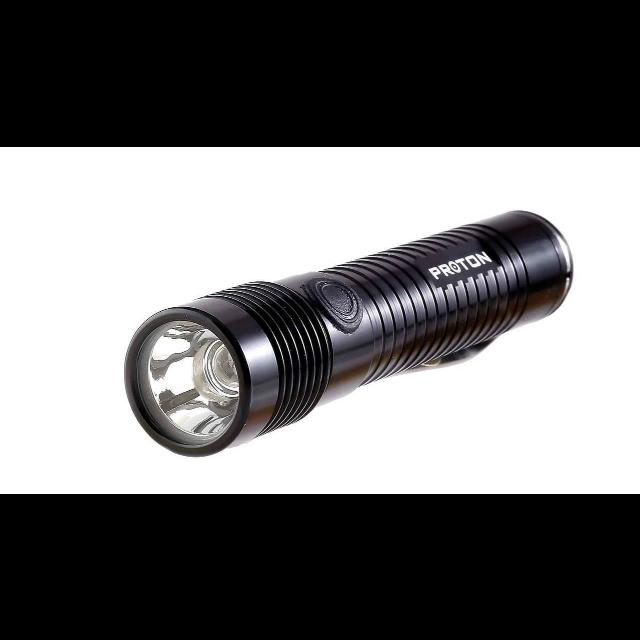Flashlight: (118, 202, 578, 463)
